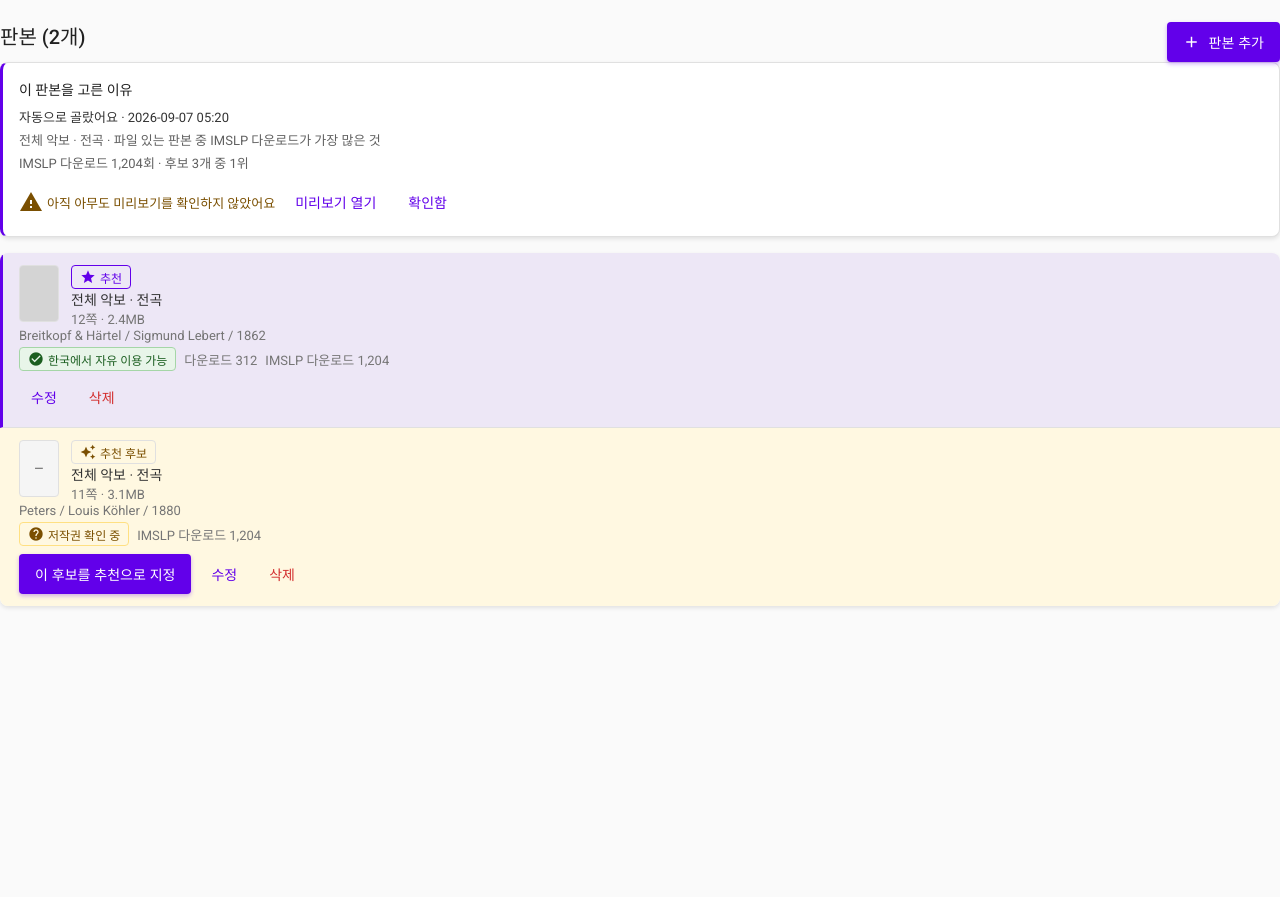
Test: 추천으로 지정 → 패널 (화면정의 A-2 · A-3) › 취소하면 패널만 닫히고 아무것도 보내지 않는다 (8-B 6)
The image size is (1280, 897).
Click the button "이 후보를 추천으로 지정": (105, 574) [19,554,192,594]
(page scrolled)
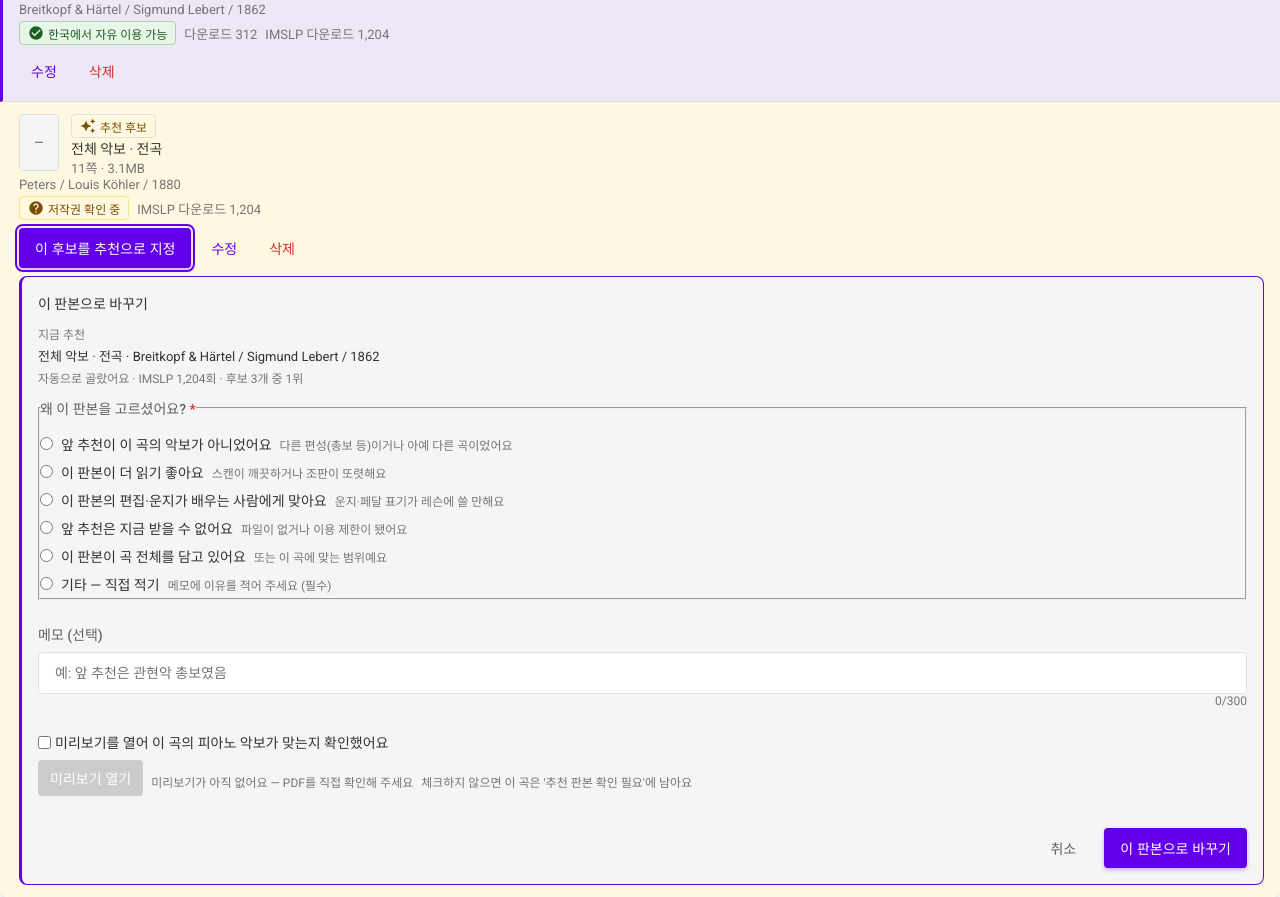
Check: the button "취소" is shown
Click the button "취소": (1063, 848) [1034,828,1092,868]
(page scrolled)
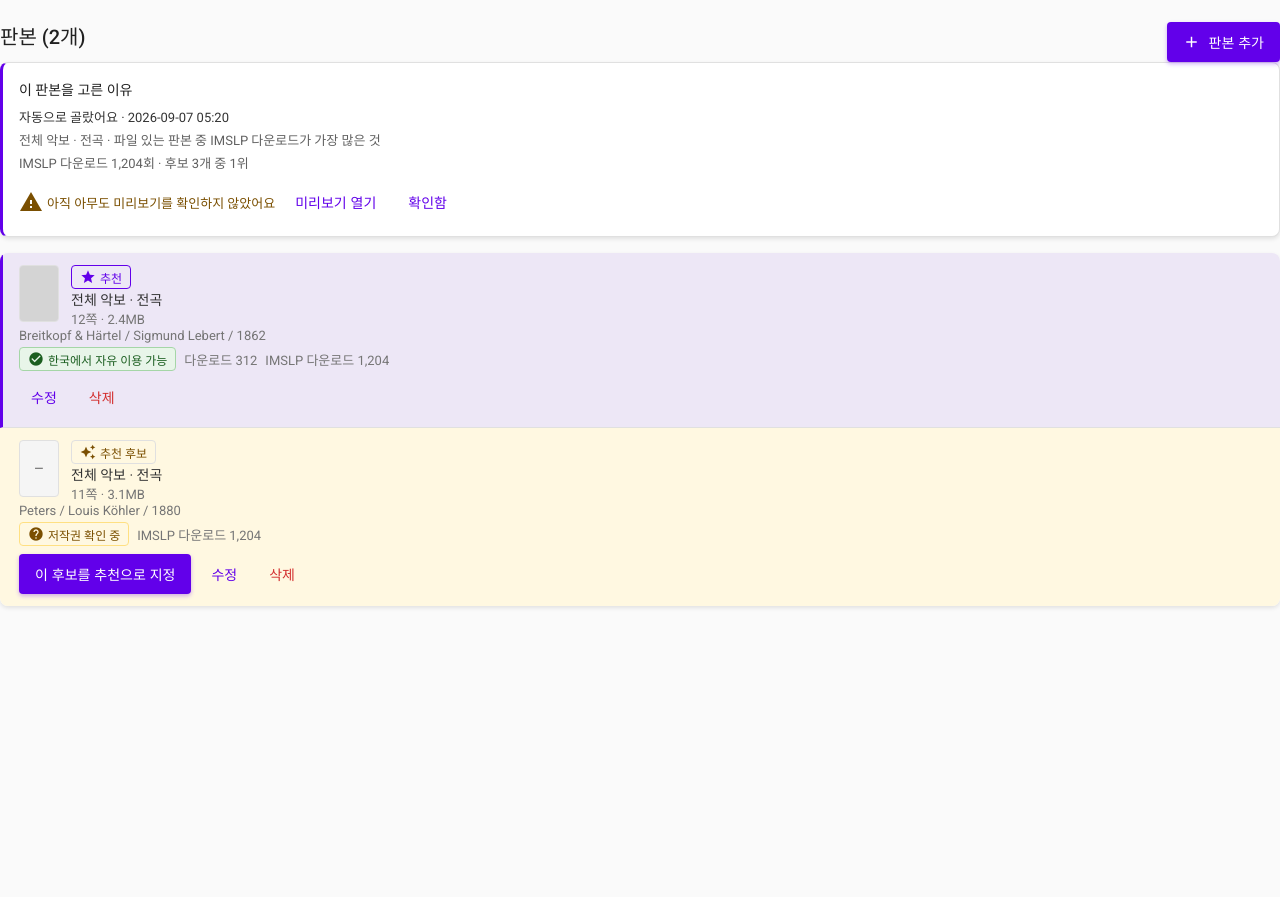
Check: the text "이 판본으로 바꾸기" is gone
